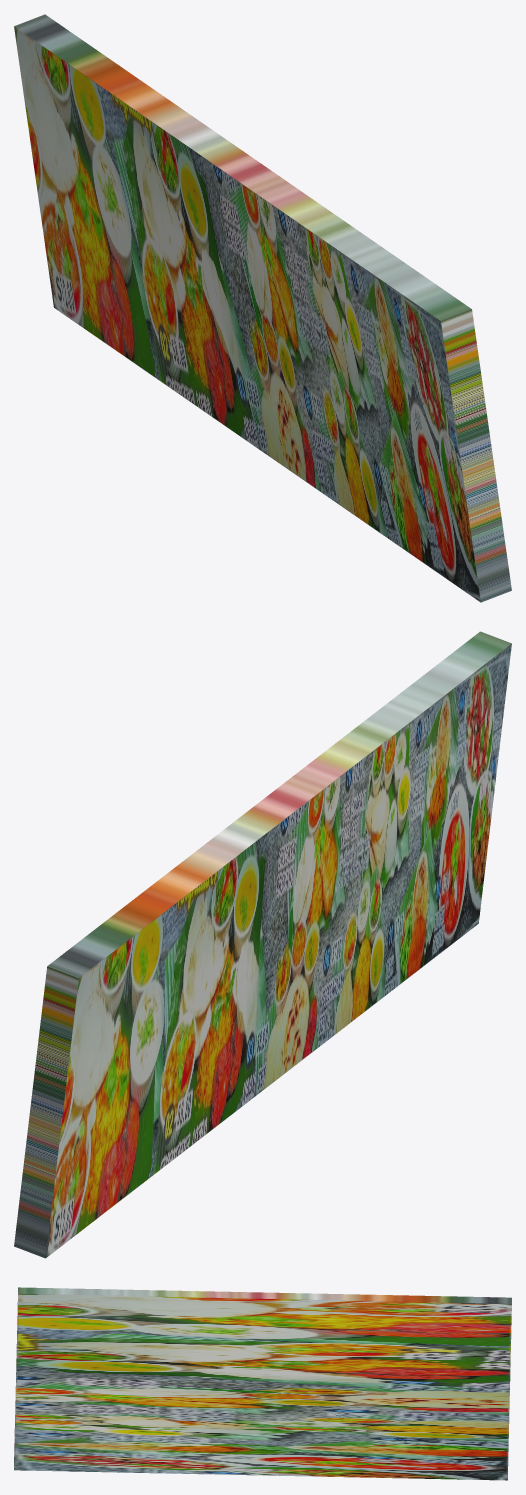
The model's file is arena_hawker_centre_food_sign_10.dae.
The picture shows the model from 3 angles, top to bottom: view 1: azimuth 30°, elevation 25°; view 2: azimuth 150°, elevation 25°; view 3: azimuth 270°, elevation 25°; orthographic projection. The views are drawn at different scales.
Parts seen in each view (by area): view 1: Plane.020; view 2: Plane.020; view 3: Plane.020.
Part boxes in pixels (x1=…): Plane.020: x1=14, y1=14, x2=511, y2=602; Plane.020: x1=14, y1=631, x2=511, y2=1258; Plane.020: x1=14, y1=1287, x2=511, y2=1480.
Bounding box in the file's own units: 0.146 × 1.61 × 0.6399.
